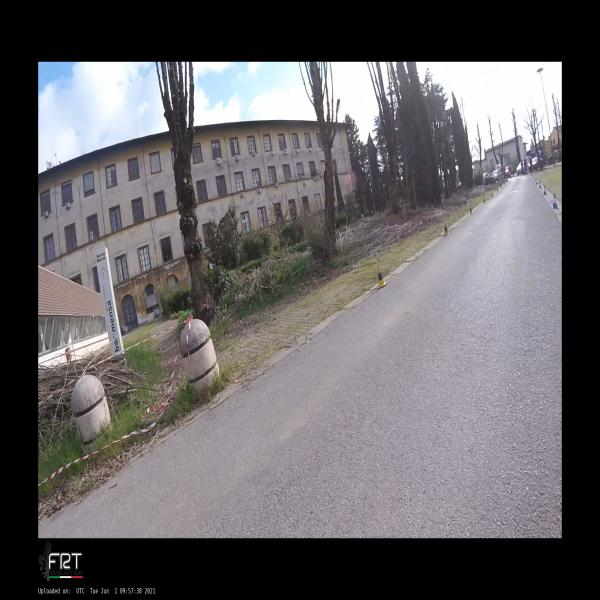blue_cone: (552, 193, 558, 209), (543, 185, 547, 195), (539, 182, 541, 188), (536, 178, 537, 184)
yellow_cone: (378, 268, 387, 288), (444, 223, 449, 235), (470, 207, 473, 214), (484, 198, 486, 204), (491, 192, 493, 197), (497, 188, 498, 193)
